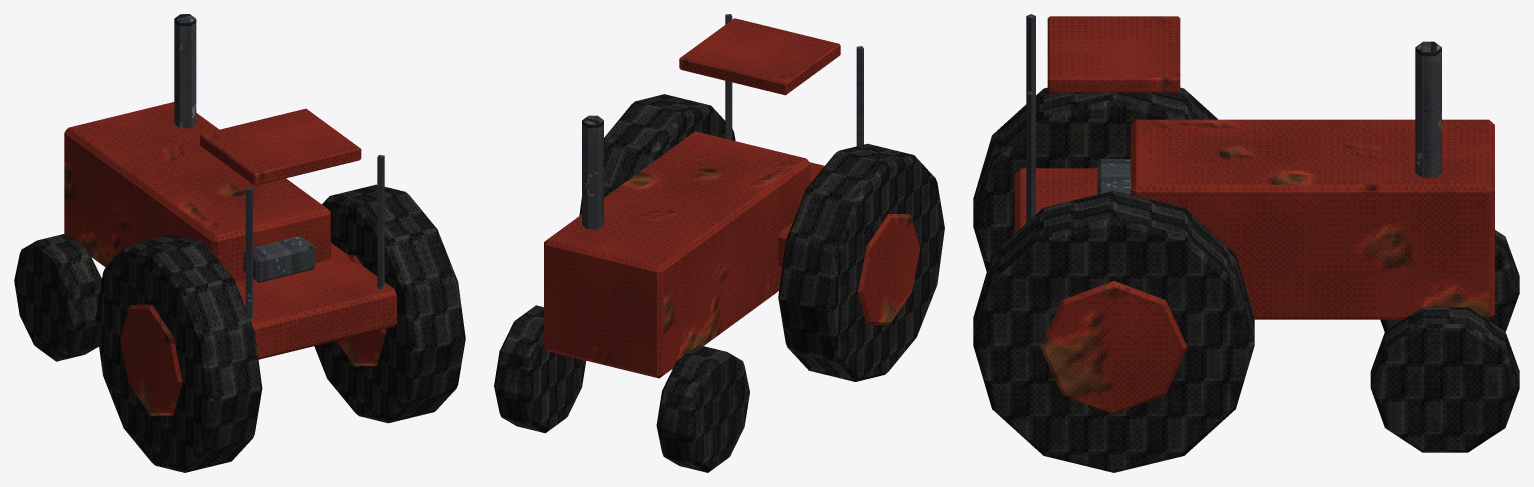
File: prop_tractor.glb
3 renders of one model, left to right at view 1: azimuth 30°, elevation 25°; view 2: azimuth 150°, elevation 25°; view 3: azimuth 270°, elevation 25°, orthographic. The views are drawn at different scales.
Visible parts, largest first — view 1: prop_tractor_mesh; view 2: prop_tractor_mesh; view 3: prop_tractor_mesh.
Boxes of the visible parts, bbox=[...] form: prop_tractor_mesh: bbox=[14, 14, 465, 472]; prop_tractor_mesh: bbox=[494, 14, 944, 472]; prop_tractor_mesh: bbox=[973, 14, 1519, 472].
Size of what is drawn, in the model's own units: 2.2 by 2.5 by 3.3.
3 materials, 3 textured.
